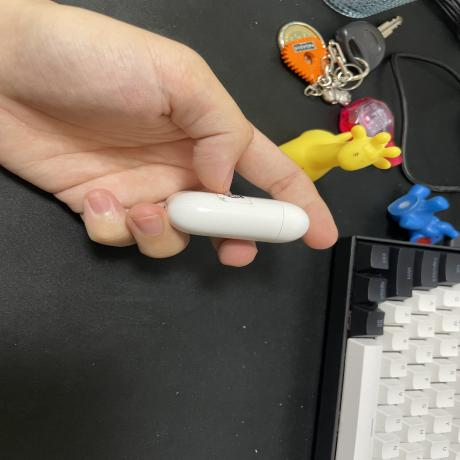airpod2: (158, 178, 314, 252)
